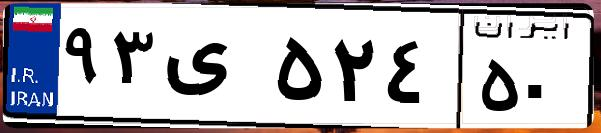0: (525, 38, 570, 115)
2: (330, 28, 385, 110)
3: (110, 28, 158, 98)
4: (385, 28, 445, 110)
5: (270, 28, 330, 110), (475, 38, 525, 113)
9: (57, 26, 110, 100)
ی: (158, 20, 270, 120)
